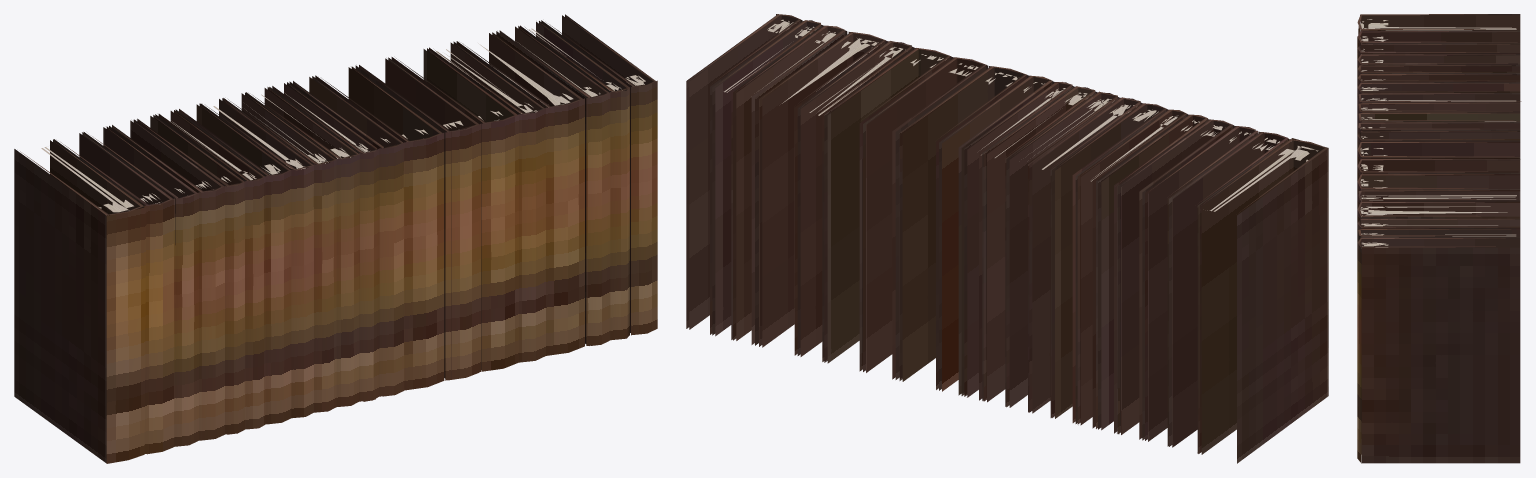
The model's file is book_encyclopedia_set_01.glb.
The picture shows the model from 3 angles, left to right: view 1: azimuth 30°, elevation 25°; view 2: azimuth 150°, elevation 25°; view 3: azimuth 270°, elevation 25°; orthographic projection. The views are drawn at different scales.
Visible parts, largest first — view 1: book_encyclopedia_set_01_book01; view 2: book_encyclopedia_set_01_book01; view 3: book_encyclopedia_set_01_book01.
Boxes of the visible parts, x1=… form: book_encyclopedia_set_01_book01: x1=14, y1=14, x2=657, y2=463; book_encyclopedia_set_01_book01: x1=686, y1=14, x2=1328, y2=463; book_encyclopedia_set_01_book01: x1=1357, y1=14, x2=1521, y2=463.
Bounding box in the file's own units: 0.5528 × 0.2374 × 0.1638.
Materials: 2 (2 with a texture image).
